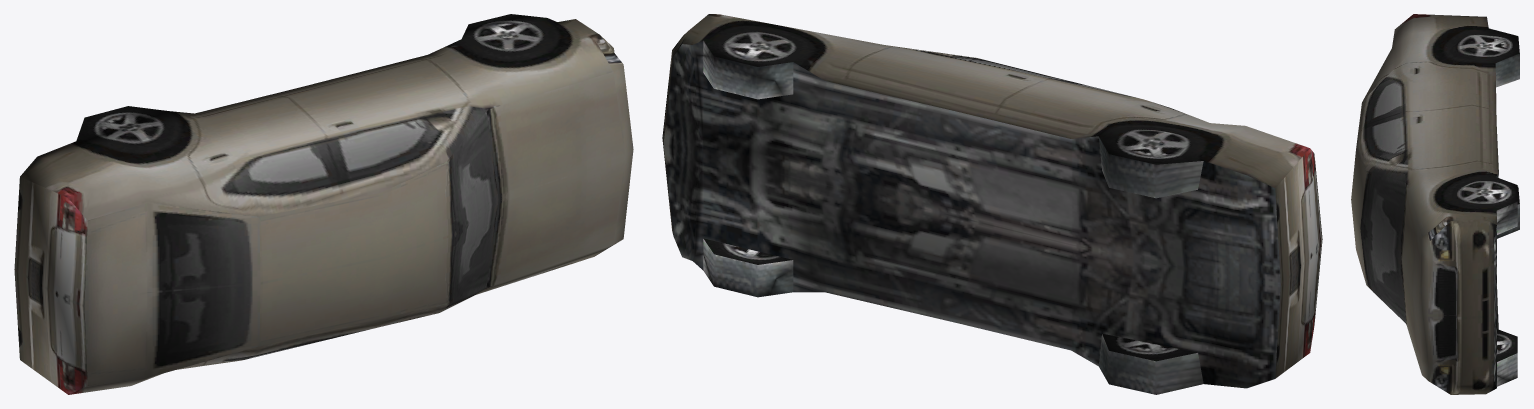
File: ny_harbor_veh_civ_car_a_8_LOD0.obj
The picture shows the model from 3 angles, left to right: view 1: azimuth 30°, elevation 25°; view 2: azimuth 150°, elevation 25°; view 3: azimuth 270°, elevation 25°; orthographic projection. The views are drawn at different scales.
Visible parts, largest first — view 1: mtl_ac_prs_vehicle_sheet_a; view 2: mtl_ac_prs_vehicle_sheet_a; view 3: mtl_ac_prs_vehicle_sheet_a.
Boxes of the visible parts, x1=… form: mtl_ac_prs_vehicle_sheet_a: x1=14, y1=14, x2=633, y2=394; mtl_ac_prs_vehicle_sheet_a: x1=662, y1=14, x2=1322, y2=394; mtl_ac_prs_vehicle_sheet_a: x1=1351, y1=14, x2=1519, y2=394.
Bounding box in the file's own units: 520 × 185 × 161.
